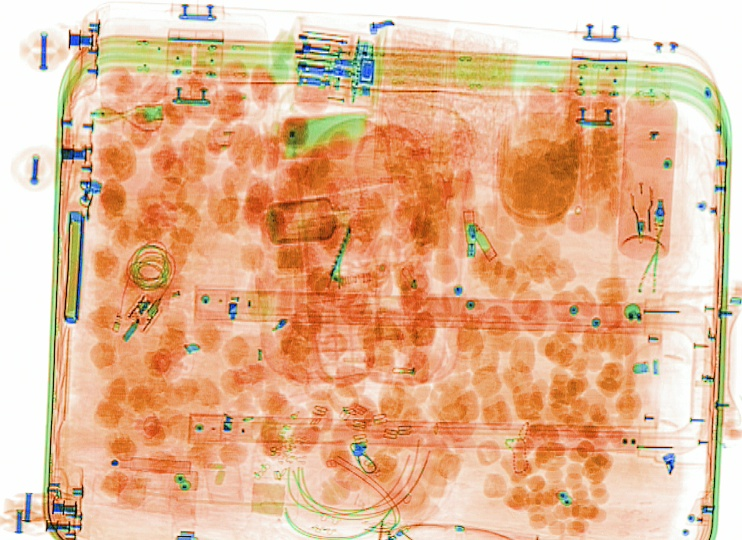pressure: (615, 63, 678, 260)
